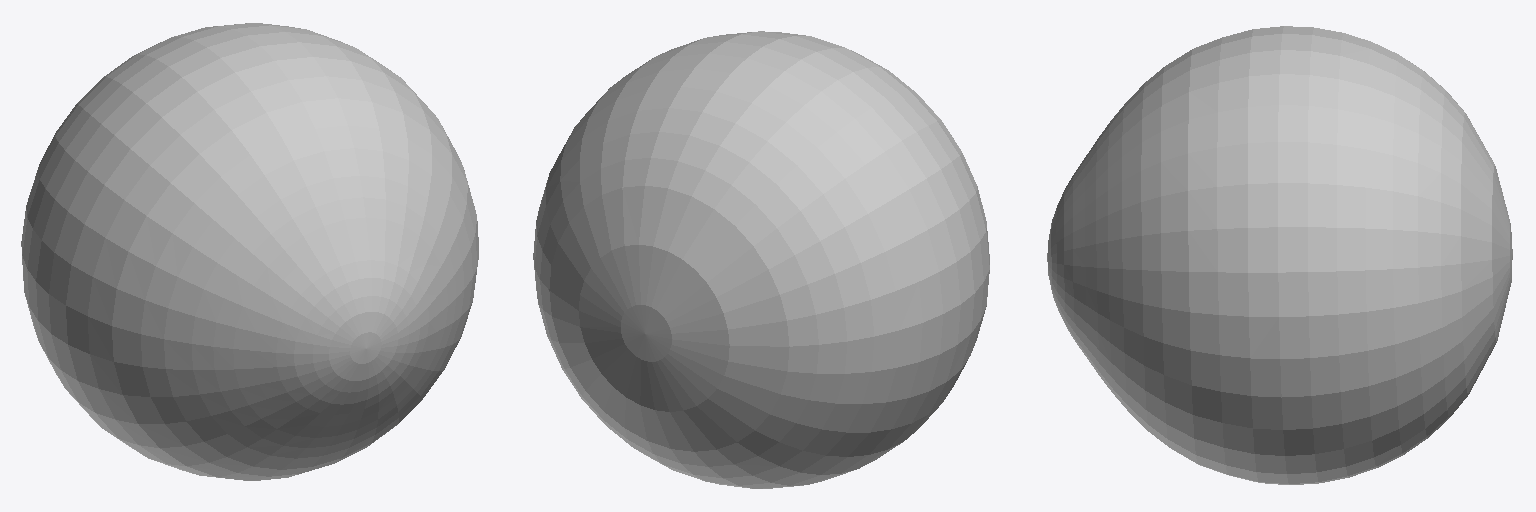
The model's file is mesh_eye_ball_R.obj.
3 renders of one model, left to right at view 1: azimuth 30°, elevation 25°; view 2: azimuth 150°, elevation 25°; view 3: azimuth 270°, elevation 25°, orthographic.
Bounding box in the file's own units: 0.2381 × 0.237 × 0.2399.